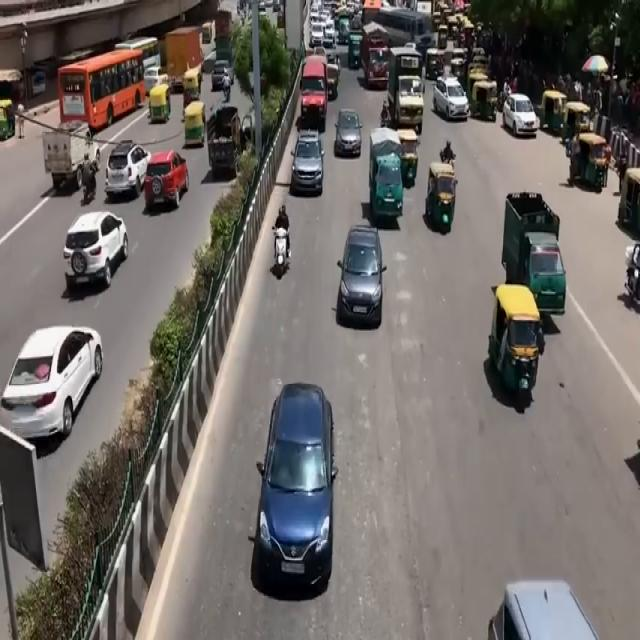BUS: (57, 44, 146, 130)
TRUCK: (368, 129, 401, 229), (391, 48, 426, 135), (296, 58, 326, 135)
